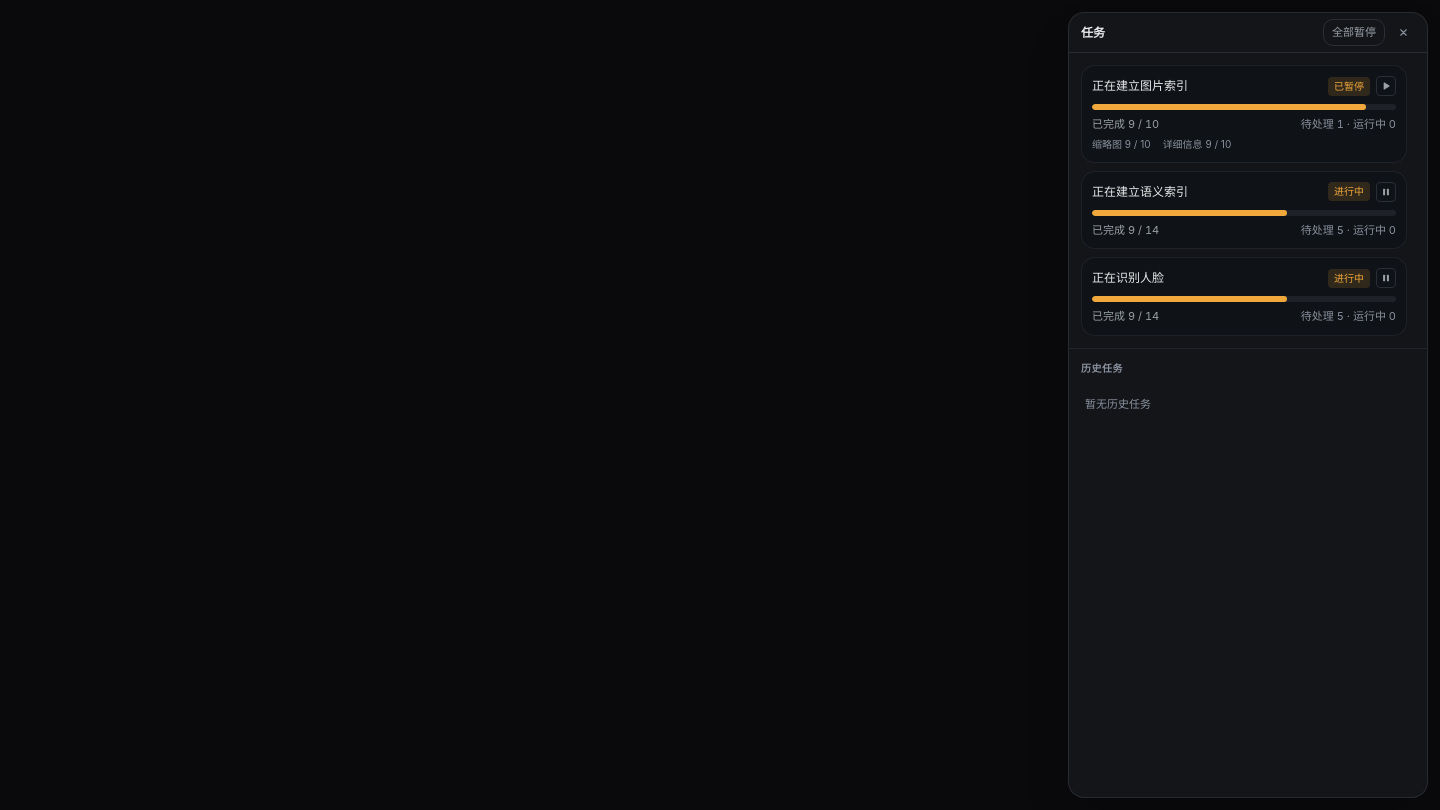
任务抽屉：索引通道行 › 恢复失败时显示后端错误，不静默吞掉
Click the button with test id "taskdrawer-index-toggle". click: (1386, 86)
box: 1376,76 -> 1396,96
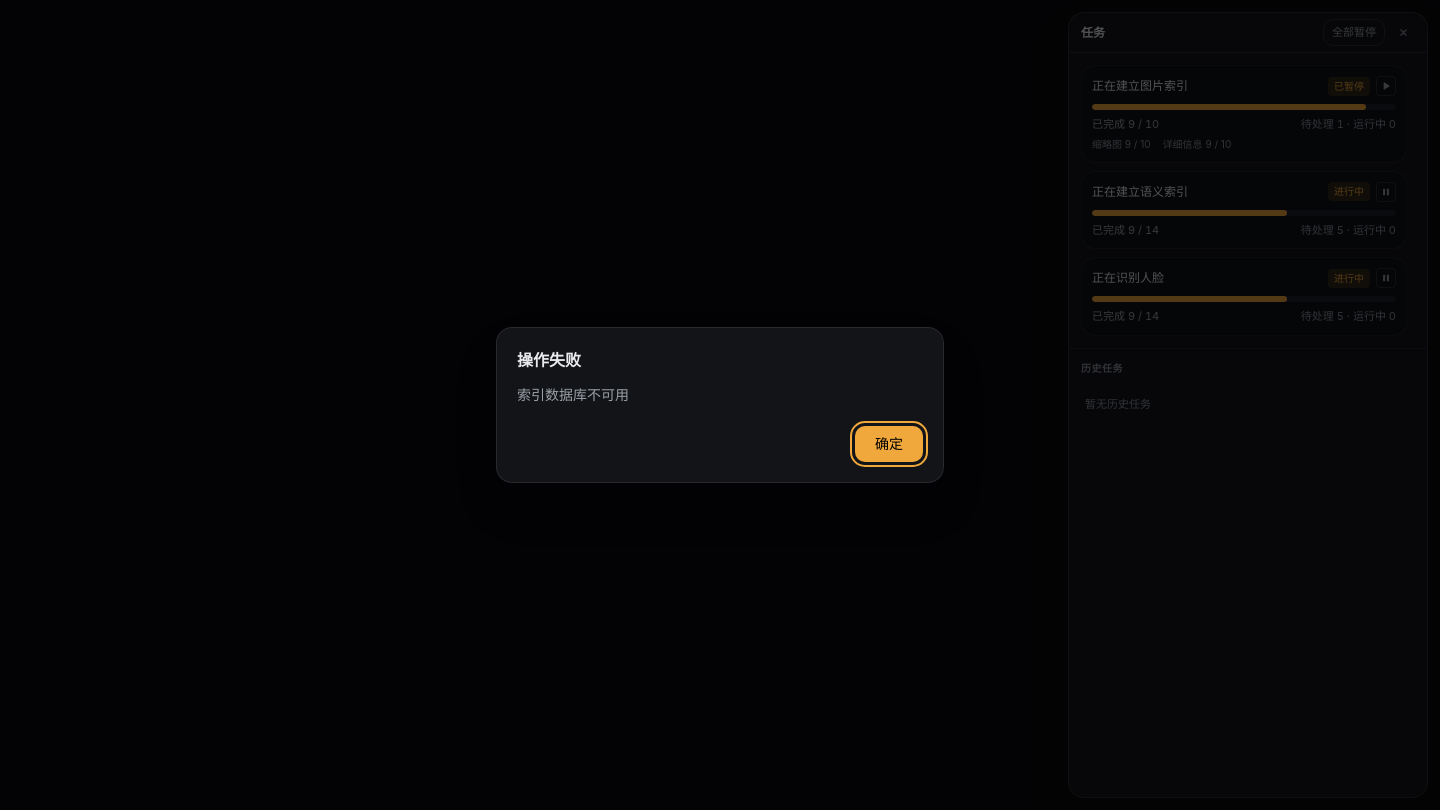
Now the text "索引数据库不可用" is shown, box 517,386 -> 629,403
